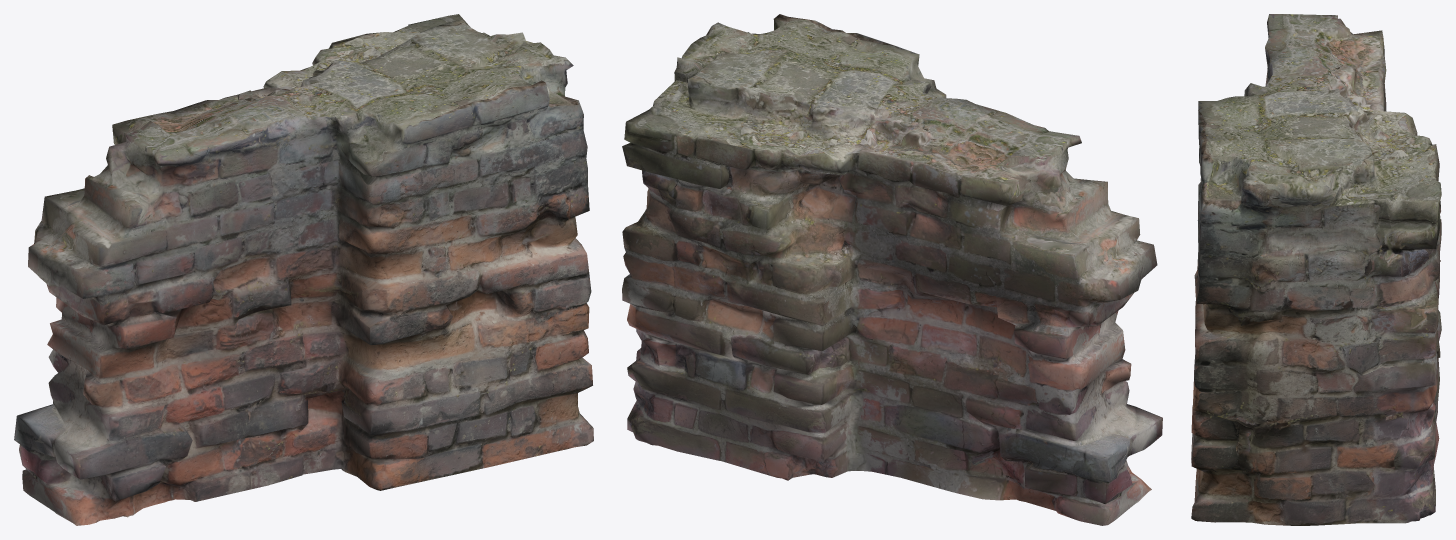
File: sm_Fence_02_03.fbx
3 renders of one model, left to right at view 1: azimuth 30°, elevation 25°; view 2: azimuth 150°, elevation 25°; view 3: azimuth 270°, elevation 25°, orthographic. The views are drawn at different scales.
Visible parts, largest first — view 1: sm_Fence_02_03_LOD0; view 2: sm_Fence_02_03_LOD0; view 3: sm_Fence_02_03_LOD0.
Part boxes in pixels (x1=…): sm_Fence_02_03_LOD0: x1=14, y1=14, x2=593, y2=525; sm_Fence_02_03_LOD0: x1=622, y1=14, x2=1162, y2=525; sm_Fence_02_03_LOD0: x1=1191, y1=14, x2=1441, y2=525.
Size of the model in its own units: 169 by 78.69 by 120.
